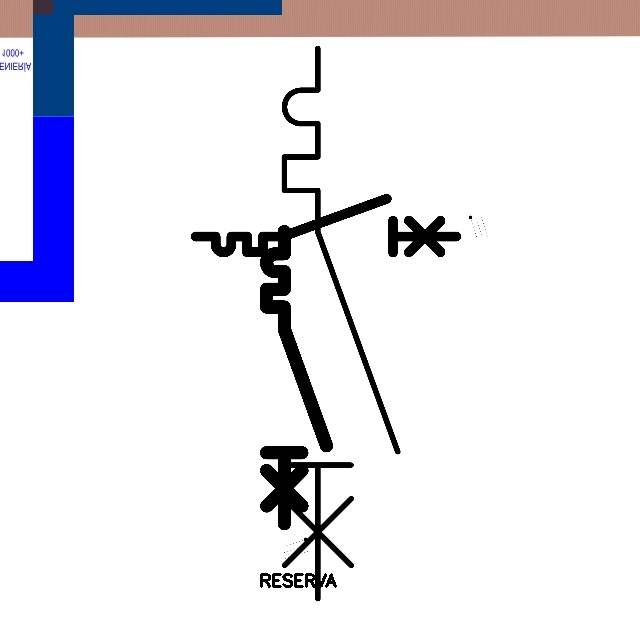interruptor_termomagnetico: (270, 34, 411, 613), (259, 224, 334, 531), (189, 192, 463, 259)
